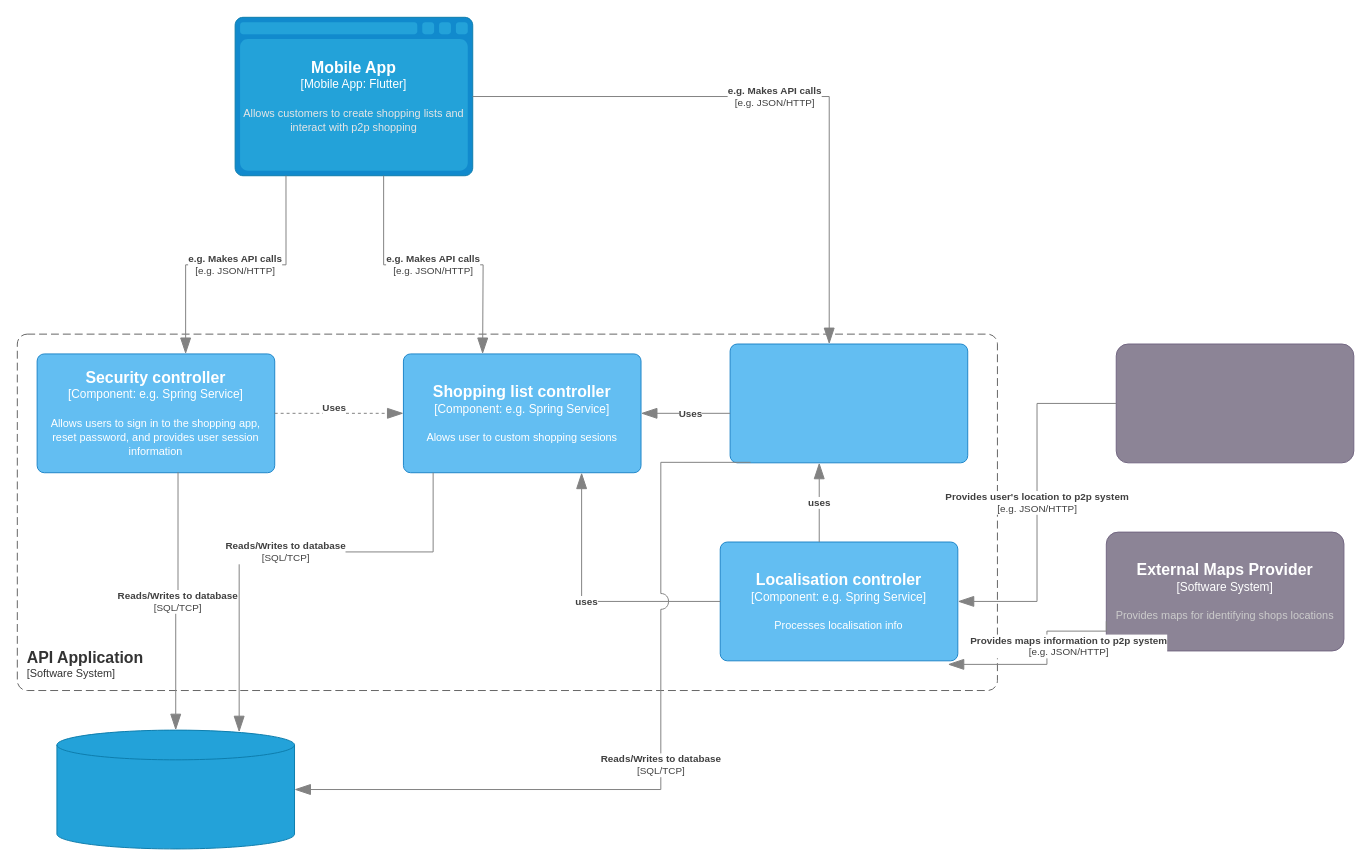
The diagram is 1371 pixels wide and 866 high, and some of its shapes have lost their labels. Each missing label, with the centre of its shape:
"Database [Container: Oracle Database 12] Stores information for p2p system" goes at pixel 175 789.
"GPS localisation [Software System] Allows mobile localisation" goes at pixel 1234 403.
"Shops controller [Component: e.g. Spring Service] Manages shops information" goes at pixel 848 403.
